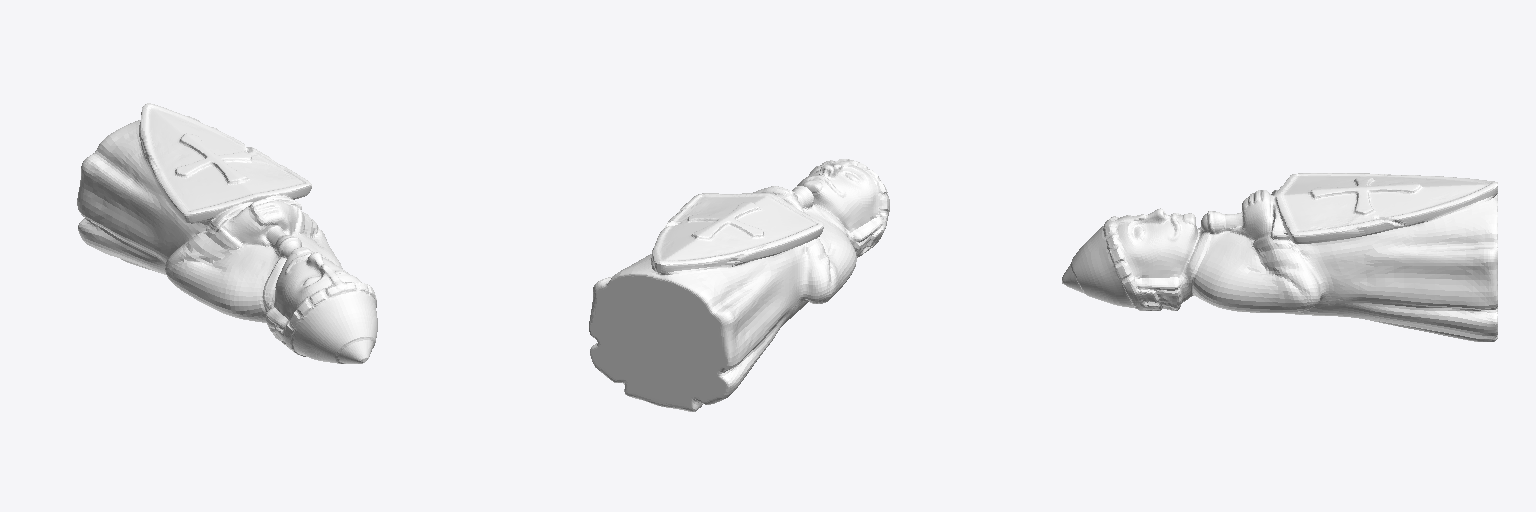
Rendered from bishop.obj.
3 renders of one model, left to right at view 1: azimuth 30°, elevation 25°; view 2: azimuth 150°, elevation 25°; view 3: azimuth 270°, elevation 25°, orthographic.
Visible parts, largest first — view 1: 12942_Stone_Chess_Bishop_Side_A; view 2: 12942_Stone_Chess_Bishop_Side_A; view 3: 12942_Stone_Chess_Bishop_Side_A.
Part boxes in pixels (left/top/right/bottom): 12942_Stone_Chess_Bishop_Side_A: left=77, top=103, right=377, bottom=363; 12942_Stone_Chess_Bishop_Side_A: left=589, top=159, right=889, bottom=411; 12942_Stone_Chess_Bishop_Side_A: left=1062, top=173, right=1497, bottom=341.
Size of the model in its own units: 3.89 by 3.59 by 9.68.